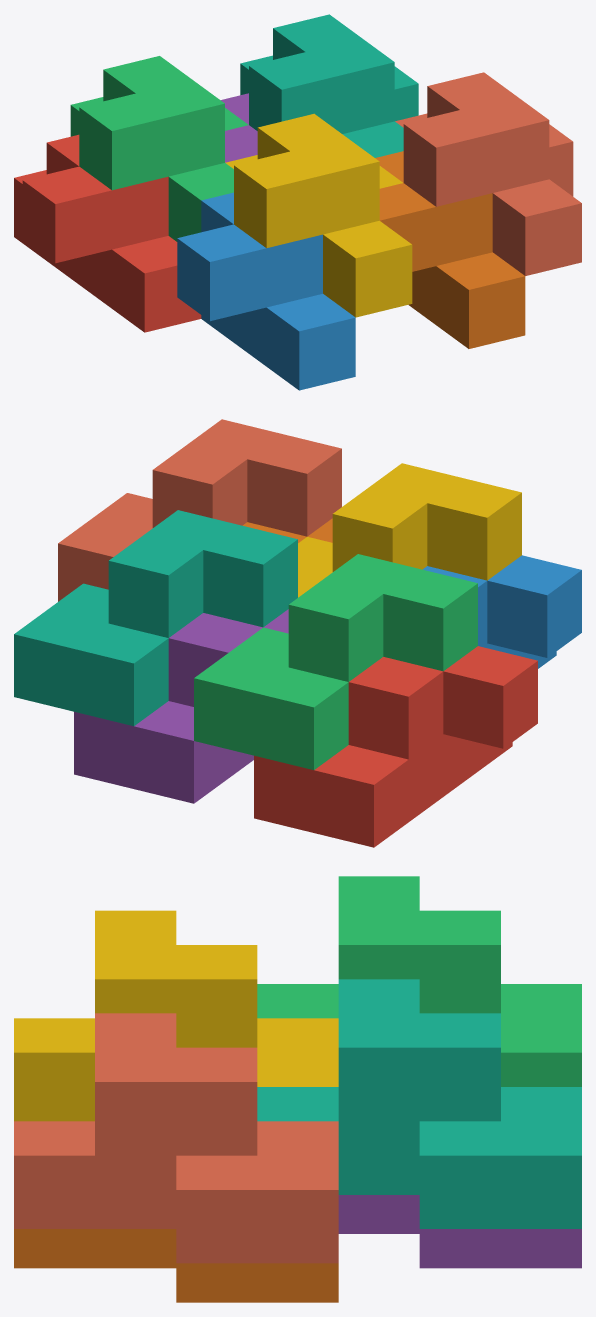
Rendered from tiling.obj.
3 views of the same model, one above another, from view 1: azimuth 30°, elevation 25°; view 2: azimuth 150°, elevation 25°; view 3: azimuth 270°, elevation 25° (orthographic). The views are drawn at different scales.
Visible parts, largest first — view 1: copy_1_domain_8, copy_1_domain_4, copy_1_domain_2, copy_1_domain_1, copy_1_domain_3, copy_1_domain_7, copy_1_domain_6, copy_1_domain_5; view 2: copy_1_domain_3, copy_1_domain_7, copy_1_domain_1, copy_1_domain_8, copy_1_domain_4, copy_1_domain_5, copy_1_domain_2, copy_1_domain_6; view 3: copy_1_domain_8, copy_1_domain_7, copy_1_domain_4, copy_1_domain_3, copy_1_domain_6, copy_1_domain_5.
Boxes of the visible parts, x1,y1,x2,y2 form: copy_1_domain_8: [395, 72, 581, 275]; copy_1_domain_4: [225, 113, 412, 317]; copy_1_domain_2: [177, 192, 355, 390]; copy_1_domain_1: [14, 134, 201, 332]; copy_1_domain_3: [70, 56, 248, 241]; copy_1_domain_7: [240, 14, 418, 157]; copy_1_domain_6: [375, 151, 525, 348]; copy_1_domain_5: [221, 93, 257, 162]; copy_1_domain_3: [194, 554, 477, 769]; copy_1_domain_7: [14, 510, 297, 726]; copy_1_domain_1: [254, 646, 537, 847]; copy_1_domain_8: [58, 419, 341, 601]; copy_1_domain_4: [298, 463, 521, 597]; copy_1_domain_5: [74, 609, 288, 803]; copy_1_domain_2: [423, 555, 581, 668]; copy_1_domain_6: [243, 518, 332, 542]; copy_1_domain_8: [14, 1013, 338, 1263]; copy_1_domain_7: [257, 979, 581, 1228]; copy_1_domain_4: [14, 910, 338, 1121]; copy_1_domain_3: [257, 876, 581, 1086]; copy_1_domain_6: [14, 1229, 338, 1302]; copy_1_domain_5: [338, 1195, 581, 1268].
Size of the model in its own units: 8 by 3 by 7.
